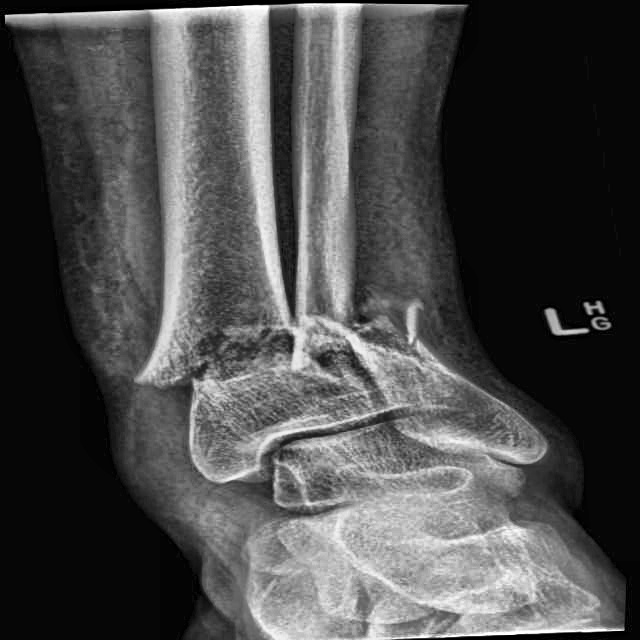Comminuted: (132, 304, 313, 403), (282, 287, 438, 367)
